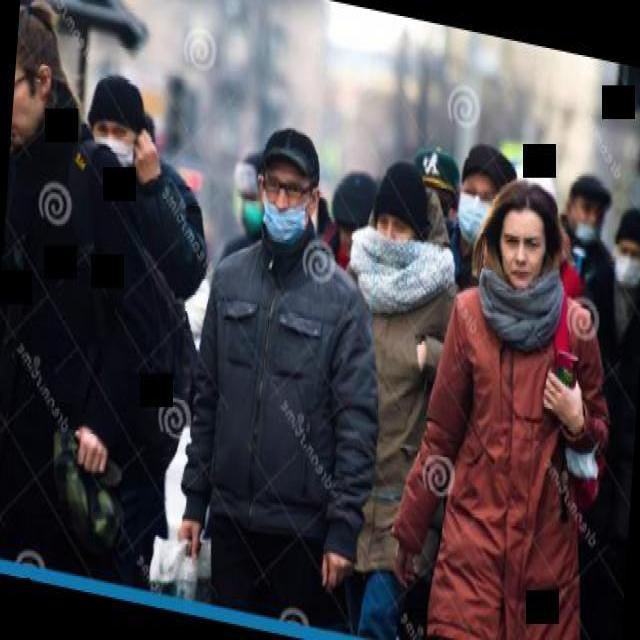hairnet: (261, 196, 306, 245), (571, 210, 603, 247)
